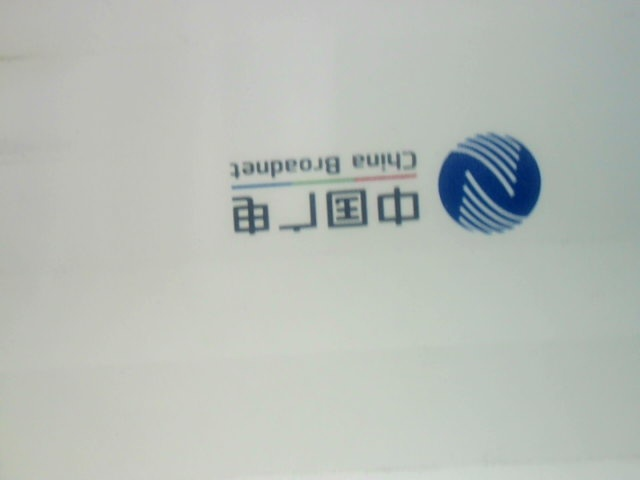AW_ChinaBroadNet: (208, 130, 580, 243)
